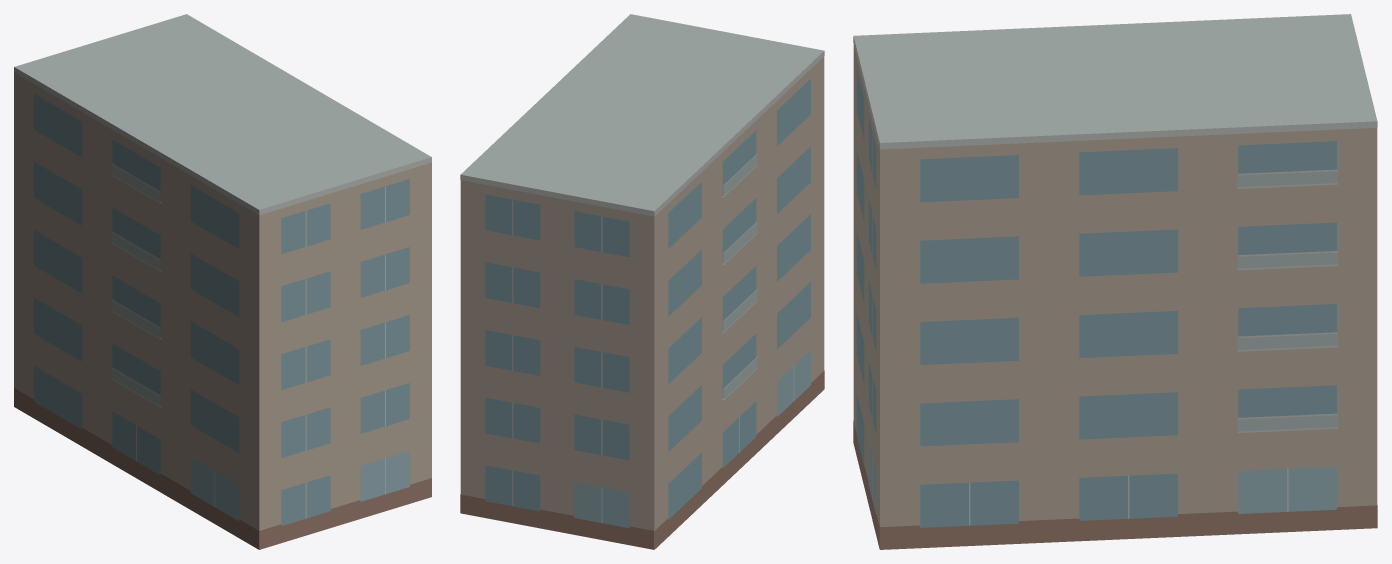
The model's file is survey-upis-32639201.glb.
3 renders of one model, left to right at view 1: azimuth 30°, elevation 25°; view 2: azimuth 150°, elevation 25°; view 3: azimuth 270°, elevation 25°, orthographic. The views are drawn at different scales.
Parts seen in each view (by area): view 1: survey-upis-32639201.tmp; view 2: survey-upis-32639201.tmp; view 3: survey-upis-32639201.tmp.
Boxes of the visible parts, x1,y1,x2,y2 form: survey-upis-32639201.tmp: (14, 14, 431, 549); survey-upis-32639201.tmp: (460, 14, 824, 549); survey-upis-32639201.tmp: (853, 14, 1377, 549).
Bounding box in the file's own units: 10.42 × 15.3 × 17.87.
